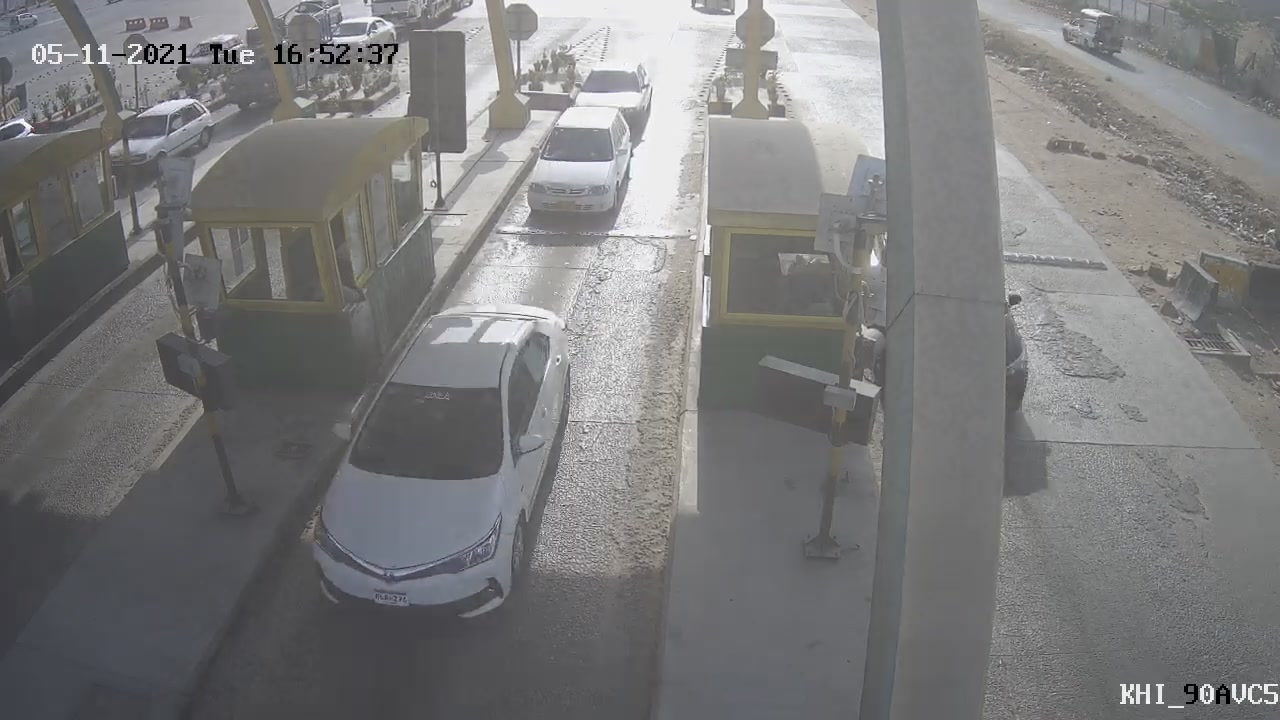F1: (494, 90, 660, 242)
